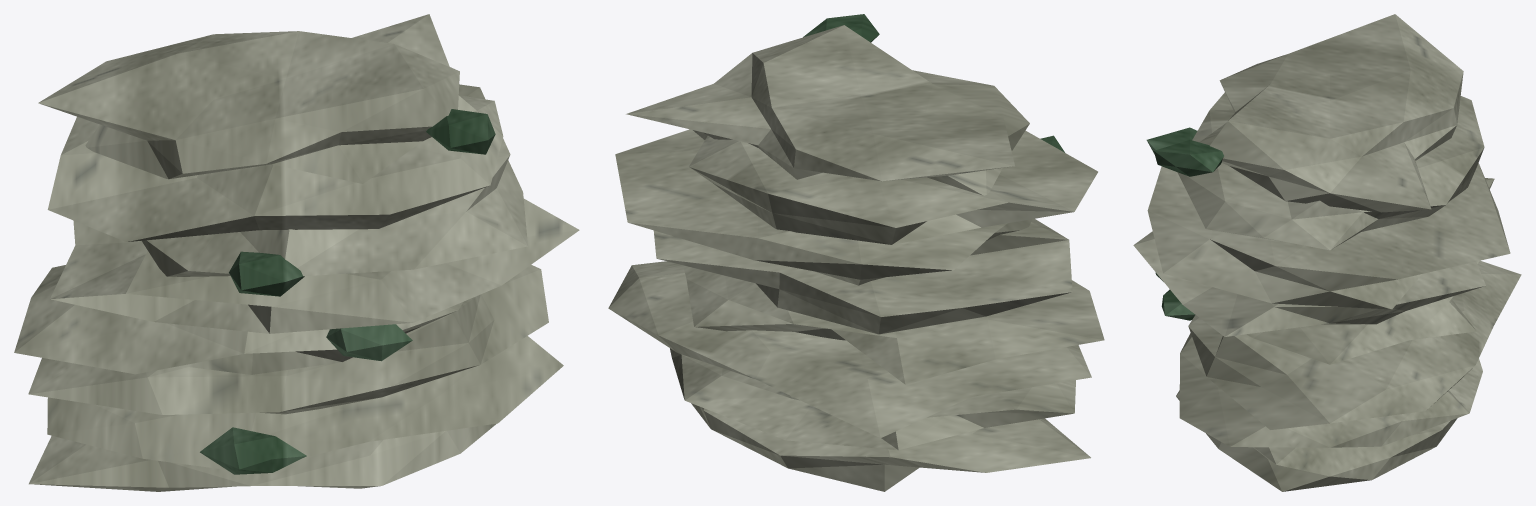
File: 0034_layered_rock_09.glb
3 views of the same model, side by side, from view 1: azimuth 30°, elevation 25°; view 2: azimuth 150°, elevation 25°; view 3: azimuth 270°, elevation 25° (orthographic). The views are drawn at different scales.
Parts seen in each view (by area): view 1: stone_light, moss; view 2: stone_light, moss; view 3: stone_light, moss.
Part boxes in pixels (x1,y1,x2,y2): stone_light: (14,14,579,491); moss: (200,109,495,474); stone_light: (608,25,1104,491); moss: (803,14,1064,152); stone_light: (1133,14,1521,491); moss: (1146,127,1223,320).
Size of the model in its own units: 2.34 by 1.68 by 1.74.
Materials: 2 (2 with a texture image).
